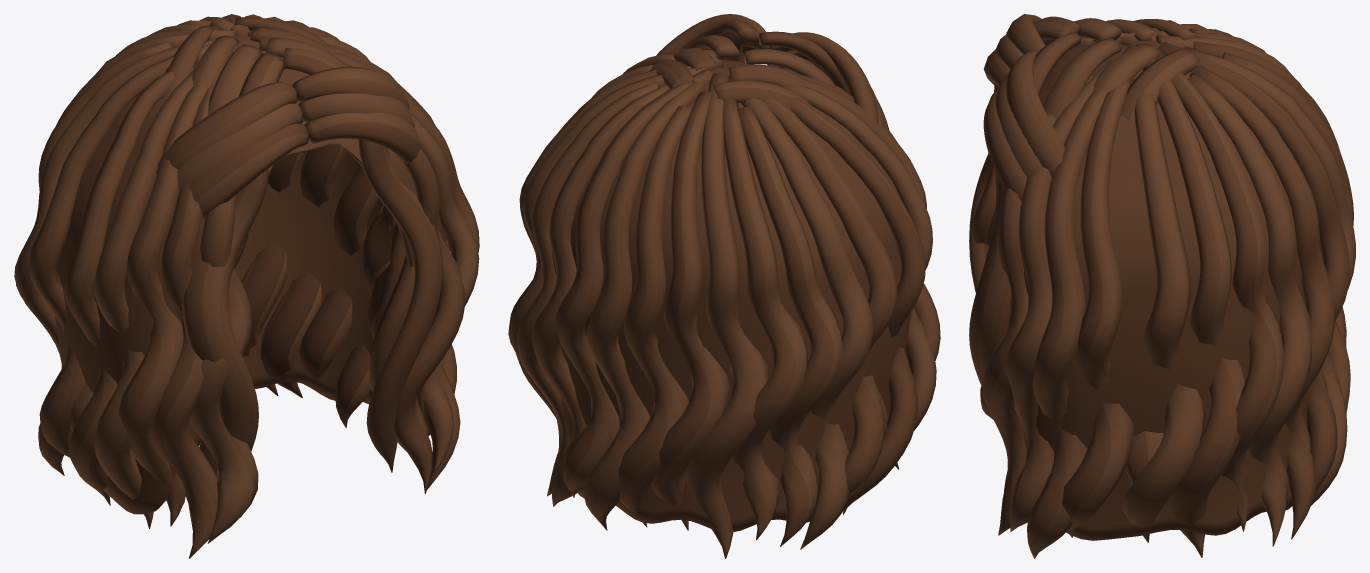
Rendered from corte-feminino-12.glb.
The picture shows the model from 3 angles, left to right: view 1: azimuth 30°, elevation 25°; view 2: azimuth 150°, elevation 25°; view 3: azimuth 270°, elevation 25°; orthographic projection. The views are drawn at different scales.
Visible parts, largest first — view 1: RCL_Corte_Feminino_12; view 2: RCL_Corte_Feminino_12; view 3: RCL_Corte_Feminino_12.
Boxes of the visible parts, x1,y1,x2,y2 form: RCL_Corte_Feminino_12: (14,14,479,558); RCL_Corte_Feminino_12: (508,14,940,558); RCL_Corte_Feminino_12: (969,14,1355,558).
Size of the model in its own units: 0.3005 by 0.3347 by 0.2517.
